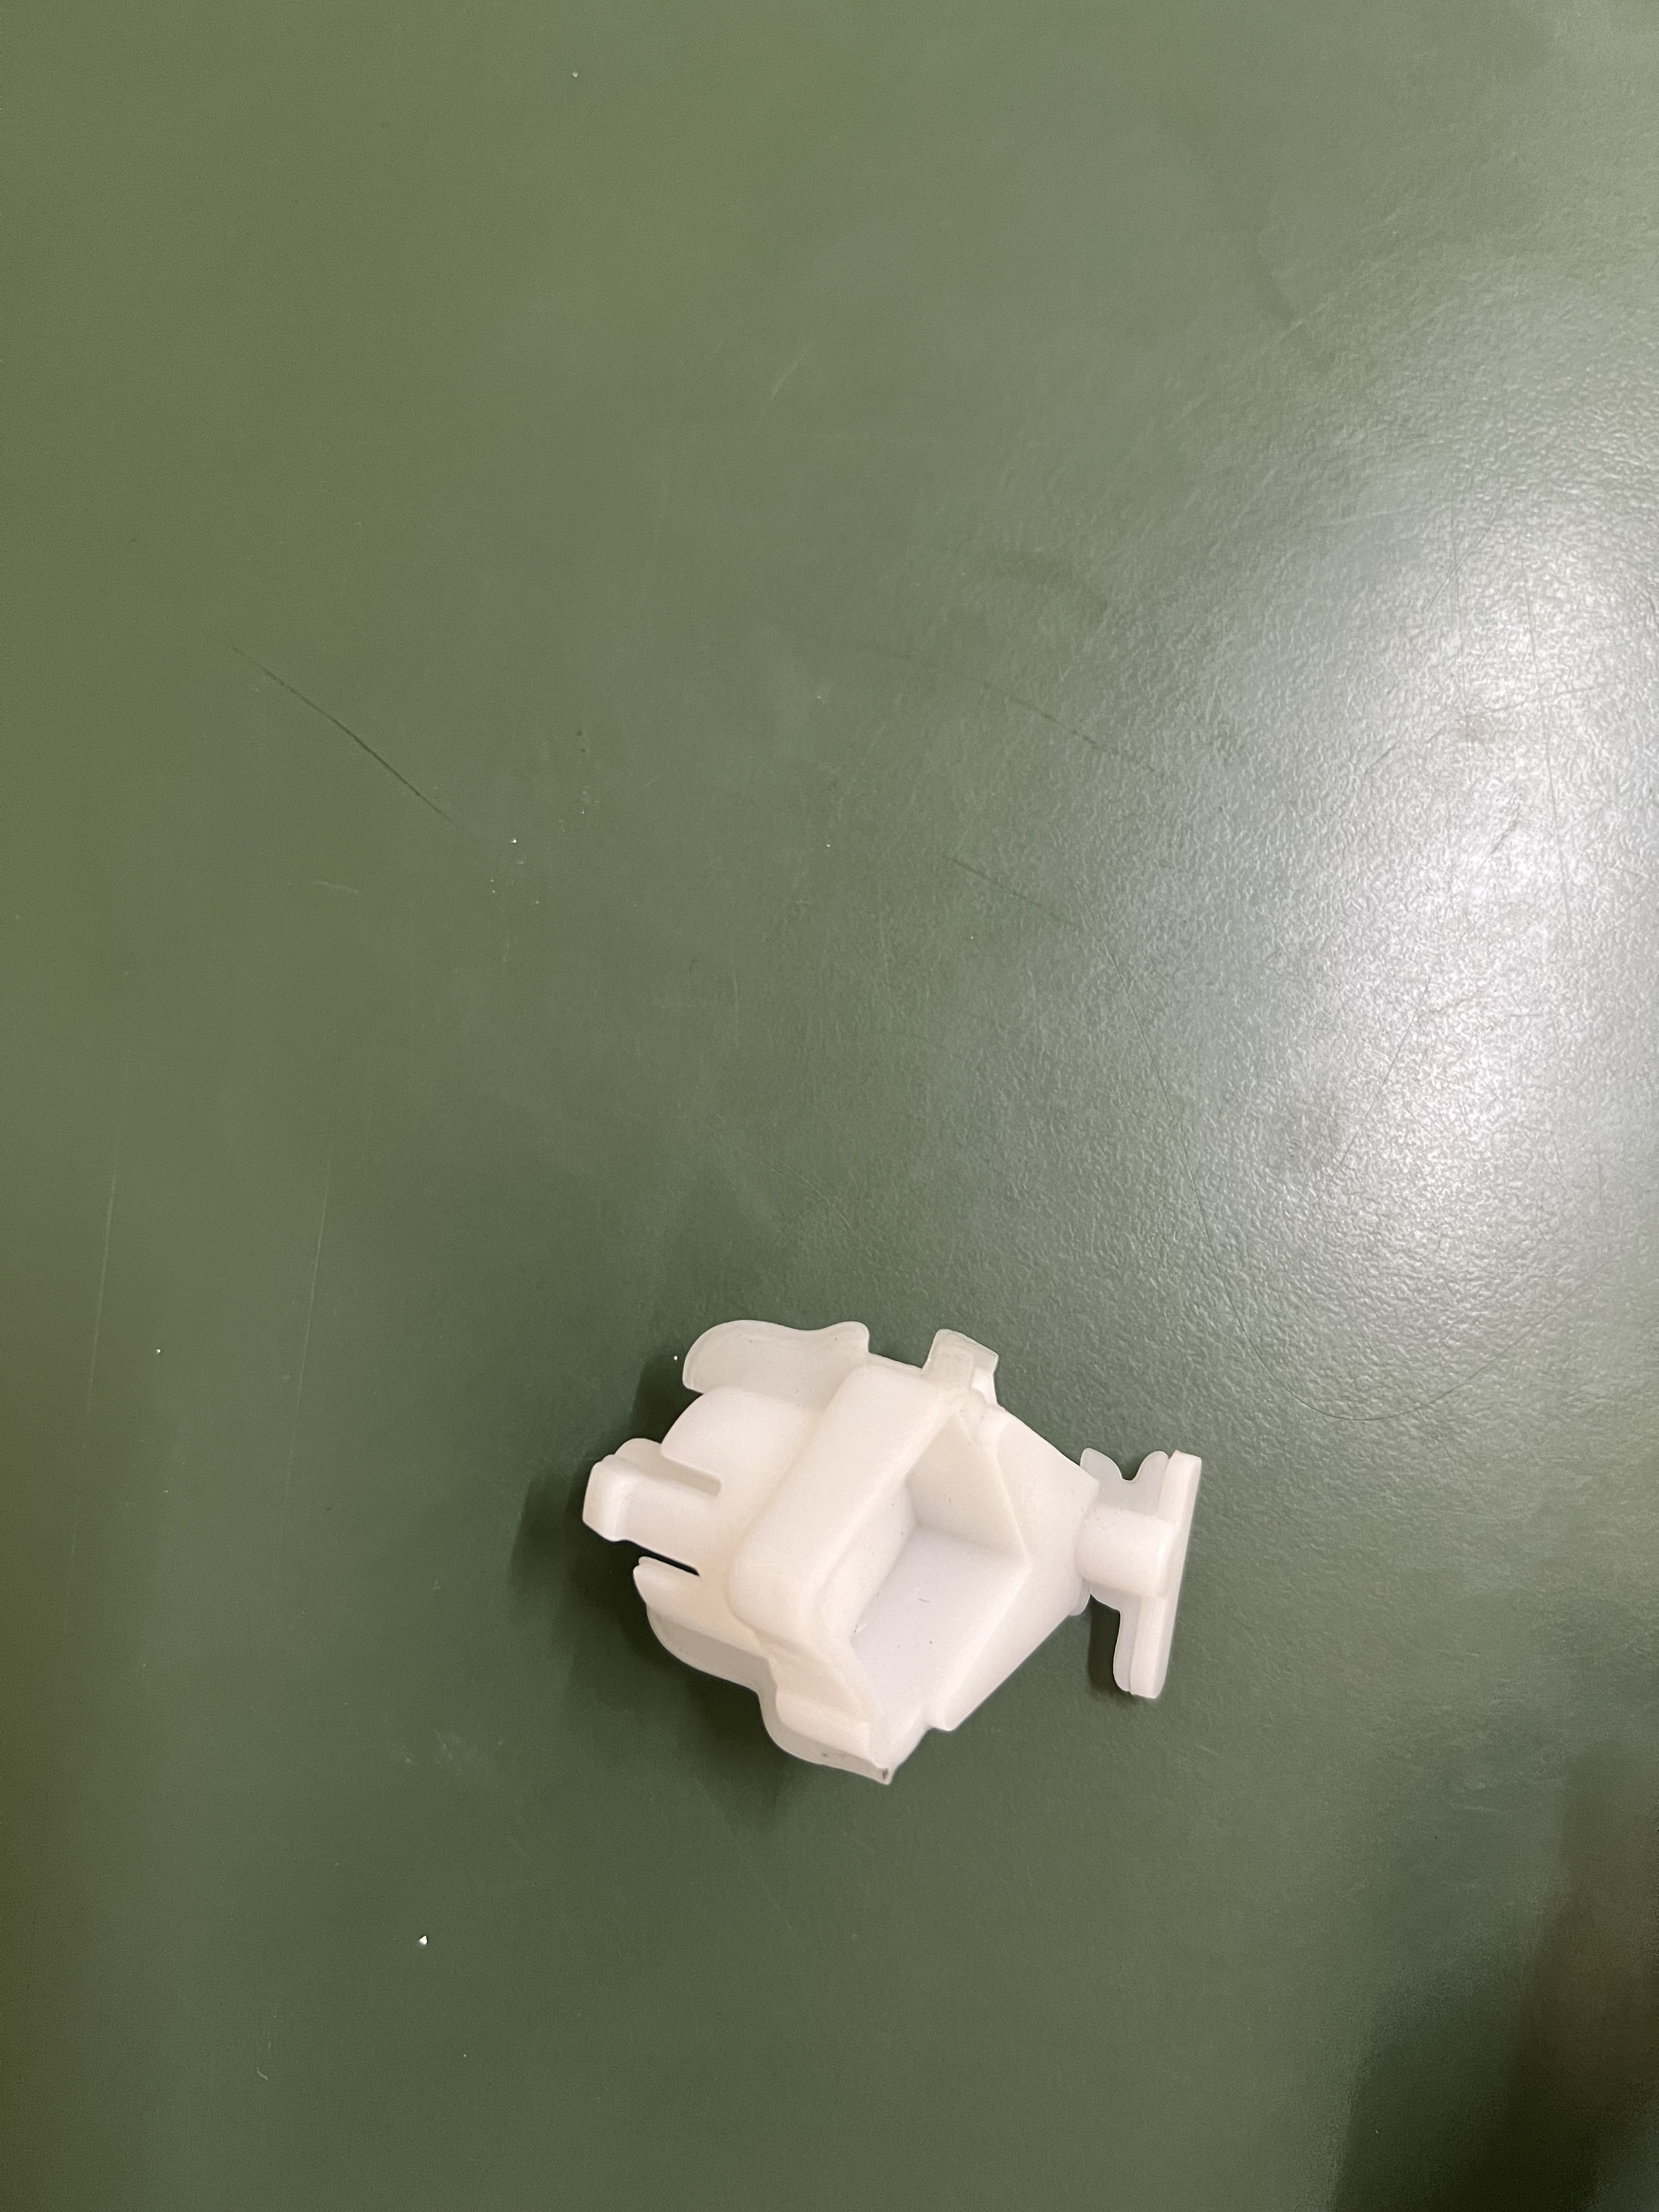drain_lever: (542, 1299, 1241, 1792)
